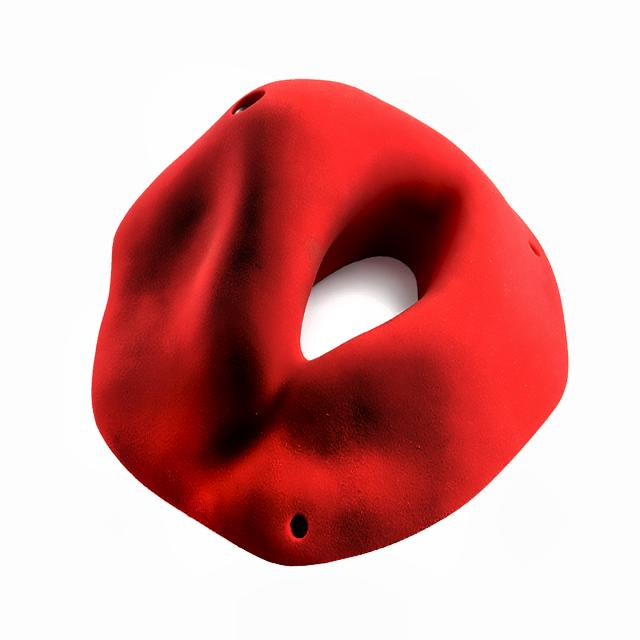Hold: (89, 78, 569, 568)
